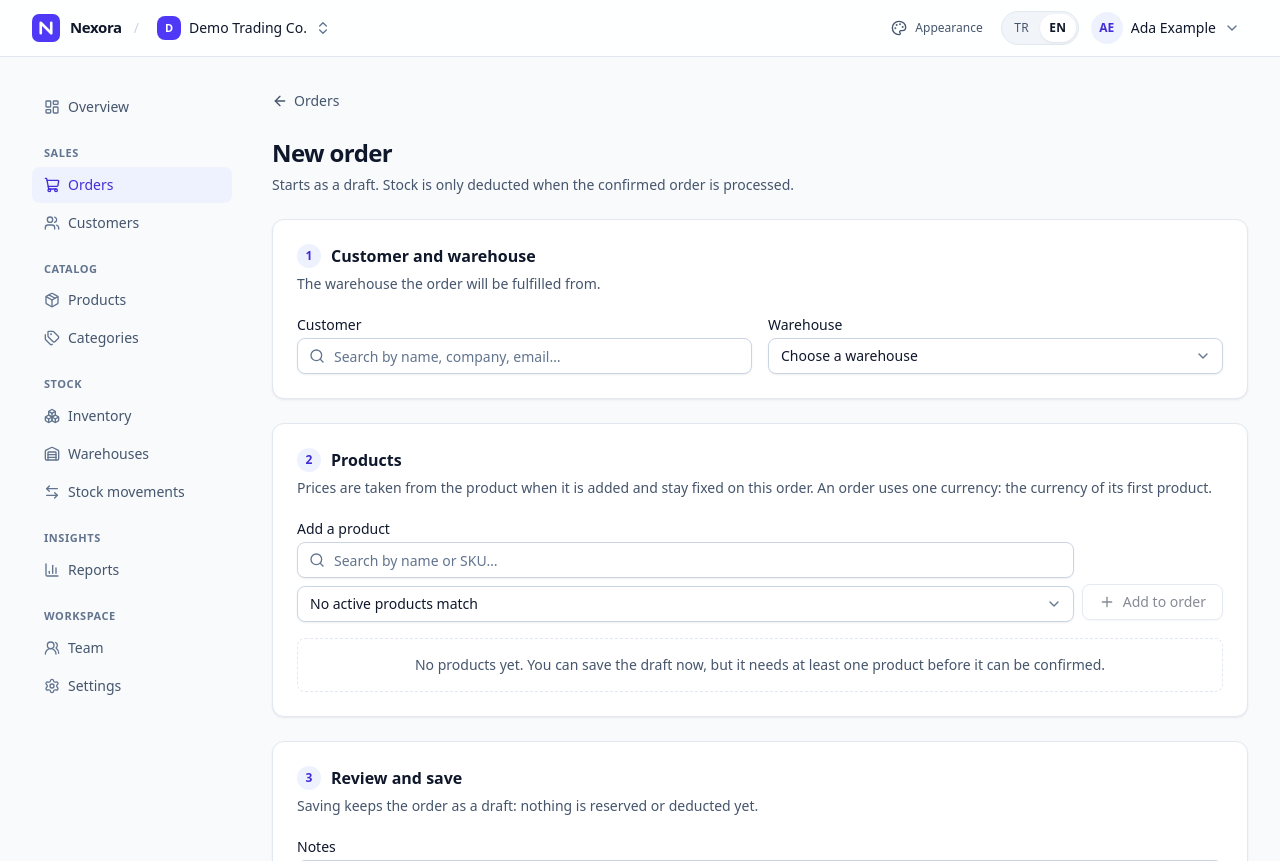
Test: CustomerPicker › opens with the first page of active customers by name
The image size is (1280, 861).
Expected: the heading "New order" is shown, [272,136,392,169]
What coordinates should you click on to do the following:
click the search field labelled "Customer"
I would click on:
 (524, 356)
Its box is [297,338,752,374].
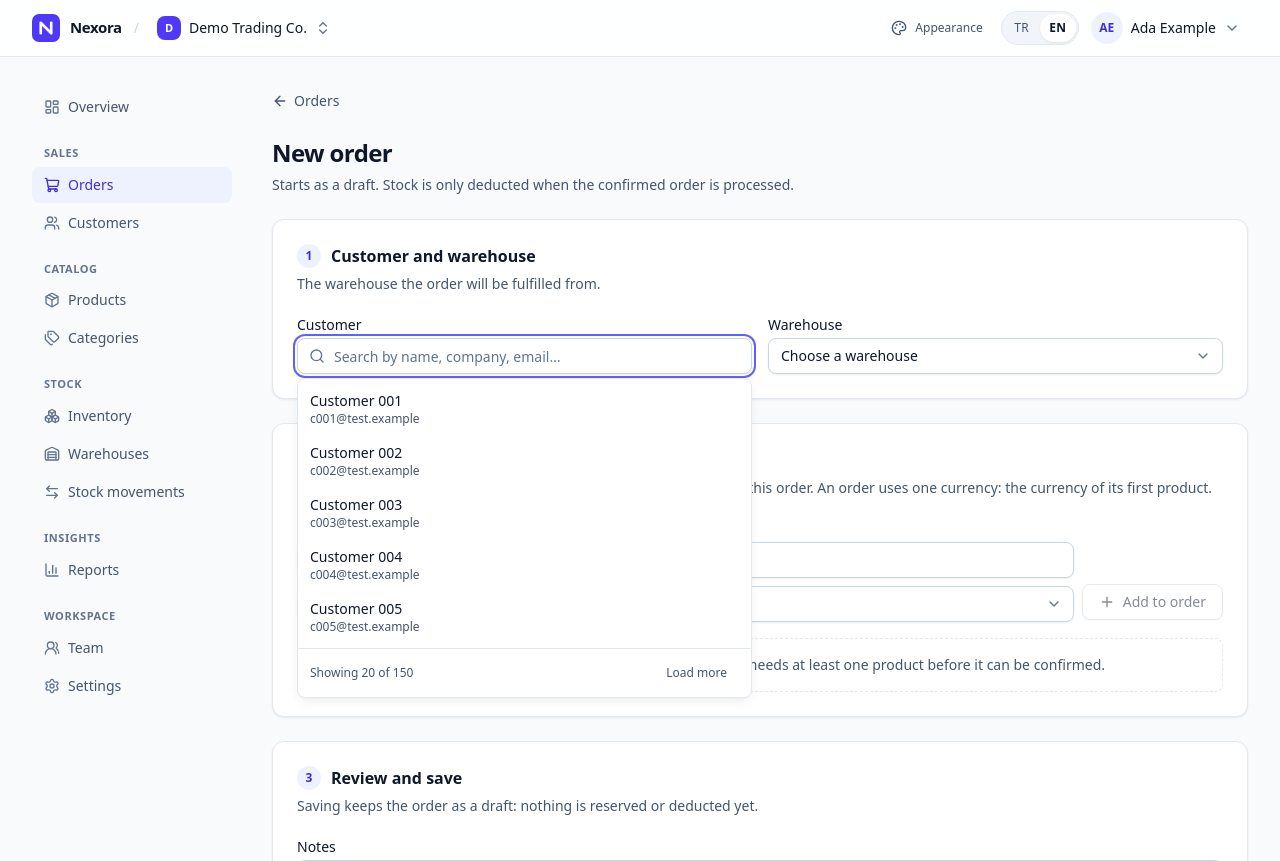
Result: the button "Customer 001 c001@test.example" is shown at [298,383,751,435]
Result: the text "Showing 20 of 150" is shown at [310,665,413,681]
